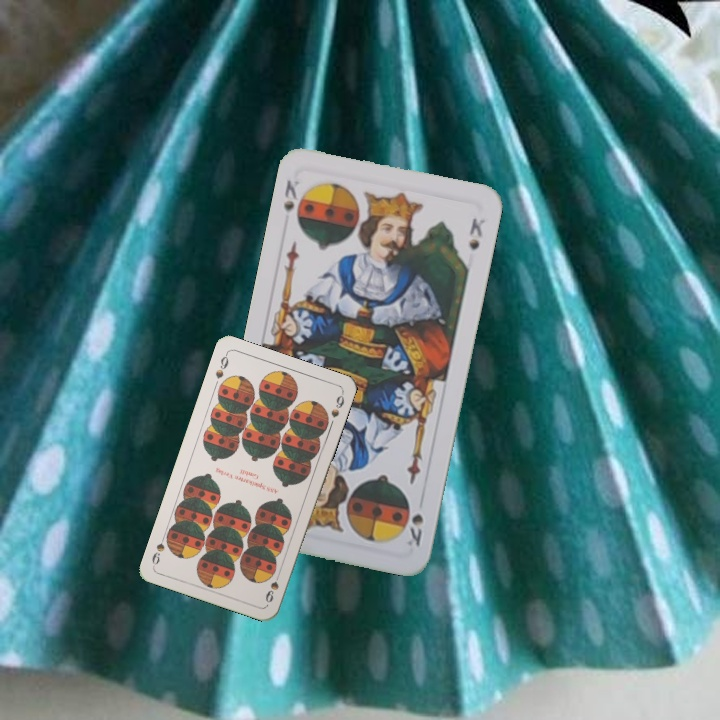S9: (261, 567, 283, 606), (211, 349, 231, 381)
SK: (402, 509, 426, 549), (279, 175, 302, 214)
